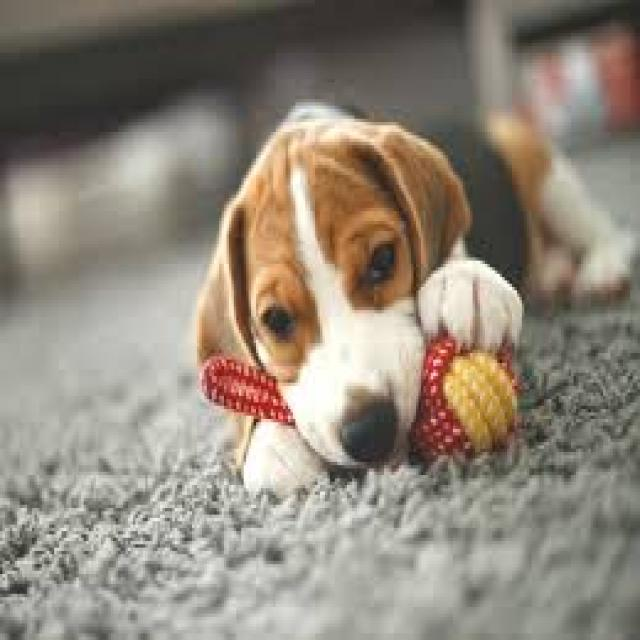Dog: (188, 90, 640, 505)
